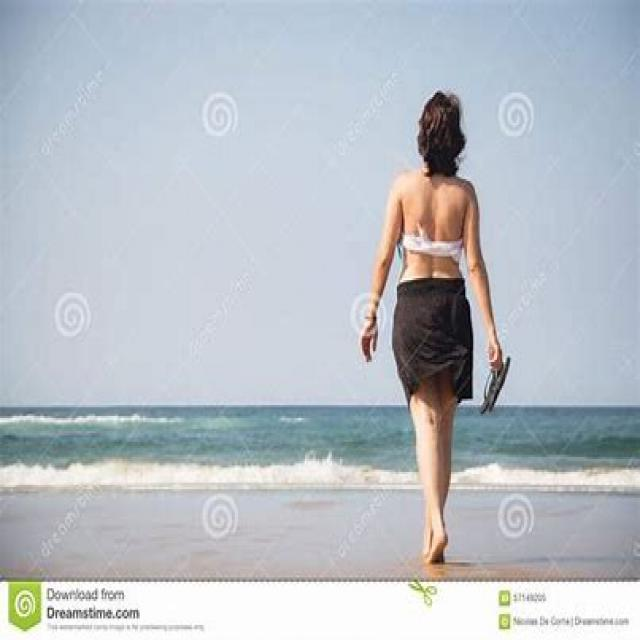No_Shoe: (418, 524, 453, 566)
